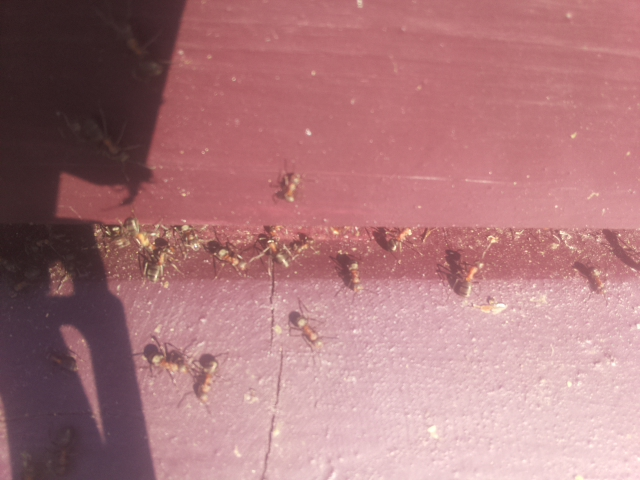ant: (72, 105, 136, 170), (117, 23, 166, 83), (281, 303, 332, 357), (137, 335, 185, 381), (569, 252, 612, 302), (191, 349, 223, 408), (45, 425, 77, 480), (120, 212, 157, 256), (206, 240, 251, 276), (454, 259, 487, 298), (380, 224, 416, 256), (278, 167, 306, 204), (344, 250, 364, 301), (262, 234, 291, 269), (46, 350, 77, 373)
